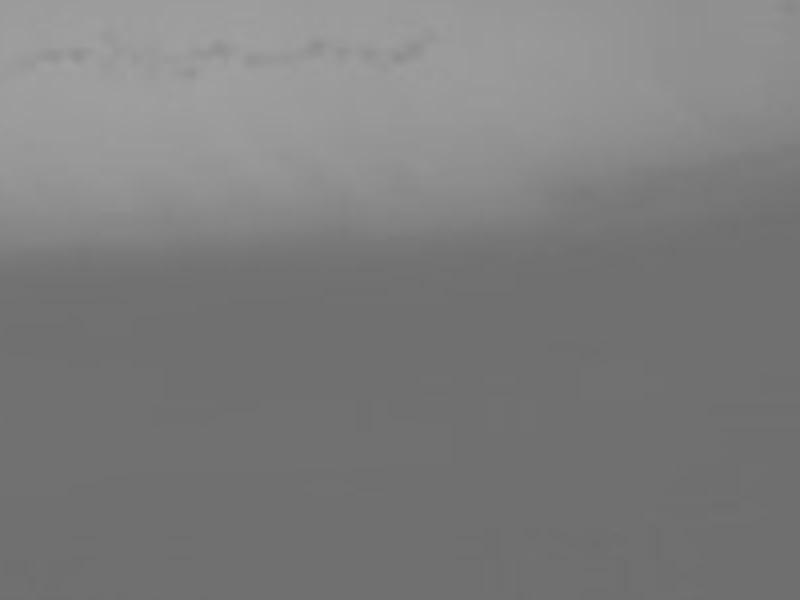defect: (240, 49, 273, 72), (201, 38, 231, 63), (299, 38, 324, 61), (354, 48, 377, 71), (36, 44, 60, 65), (67, 42, 88, 65), (402, 40, 428, 58), (391, 47, 411, 67), (332, 45, 351, 63), (420, 26, 440, 43), (181, 64, 199, 80)
